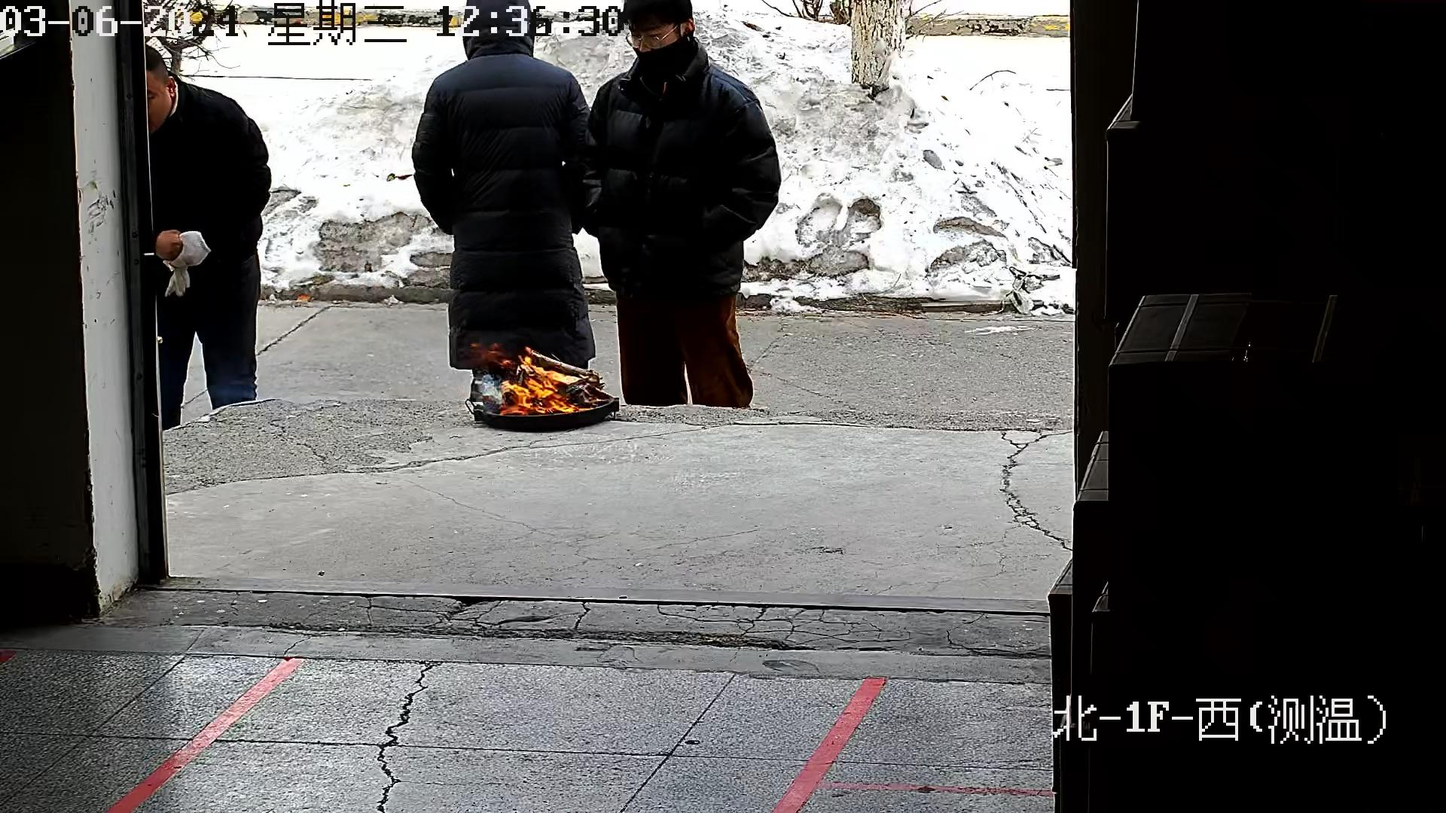fire: (471, 347, 615, 416)
